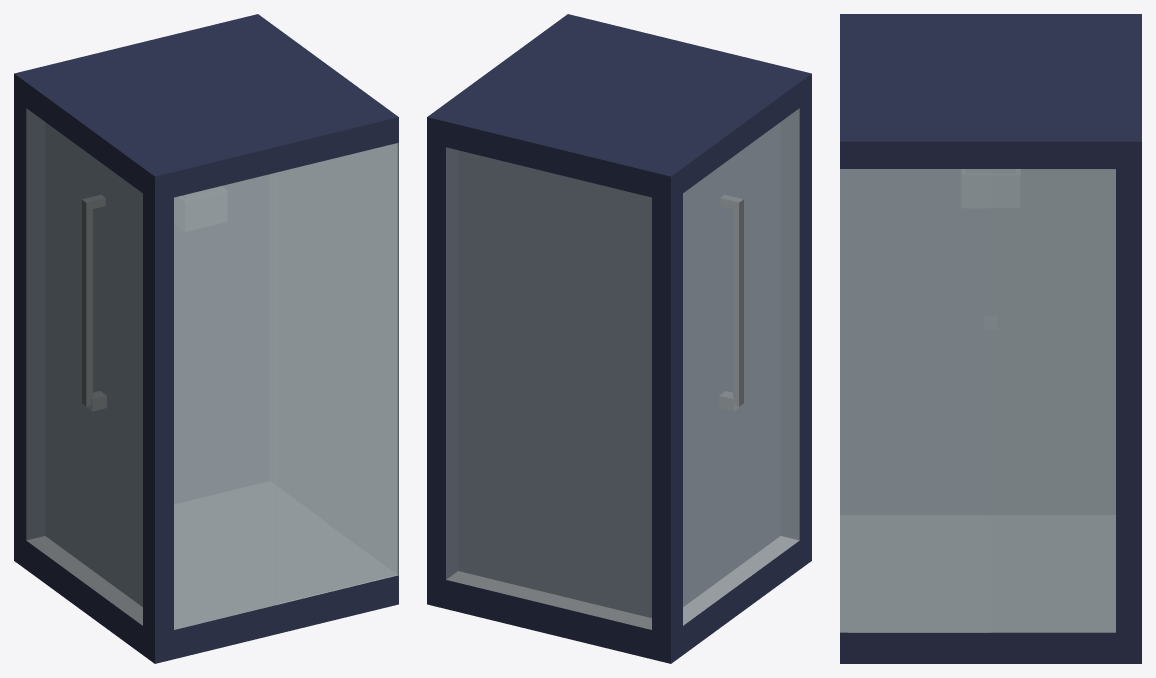
File: showerBox.fbx
3 renders of one model, left to right at view 1: azimuth 30°, elevation 25°; view 2: azimuth 150°, elevation 25°; view 3: azimuth 270°, elevation 25°, orthographic. The views are drawn at different scales.
Parts seen in each view (by area): view 1: showerBox, door2, shower, door1; view 2: showerBox, shower; view 3: showerBox, door1.
Boxes of the visible parts, x1,y1,x2,y2 form: showerBox: (14, 14, 398, 663); door2: (277, 143, 397, 604); shower: (82, 195, 106, 411); door1: (397, 142, 398, 574); showerBox: (427, 14, 811, 663); shower: (719, 195, 743, 411); showerBox: (840, 14, 1141, 663); door1: (840, 169, 990, 632).
Bounding box in the file's own units: 300 × 573 × 300.
